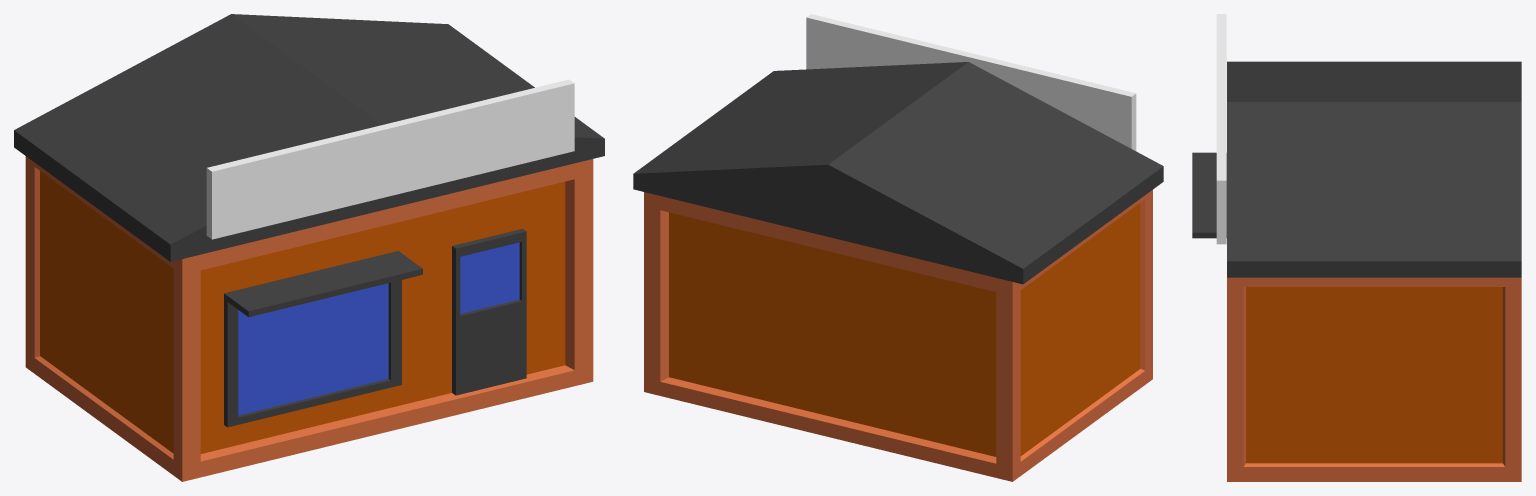
File: MarketOld.fbx
3 renders of one model, left to right at view 1: azimuth 30°, elevation 25°; view 2: azimuth 150°, elevation 25°; view 3: azimuth 270°, elevation 25°, orthographic. The views are drawn at different scales.
Visible parts, largest first — view 1: Market; view 2: Market; view 3: Market.
Part boxes in pixels (x1,y1,x2,y2): Market: [14, 14, 604, 481]; Market: [633, 14, 1163, 481]; Market: [1192, 14, 1521, 481].
Size of the model in its own units: 3887 by 2637 by 2713.
